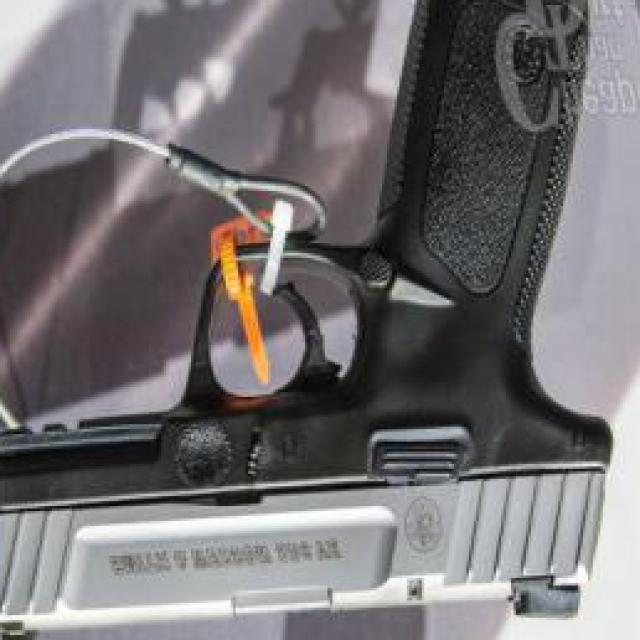pistol: (0, 0, 613, 640)
